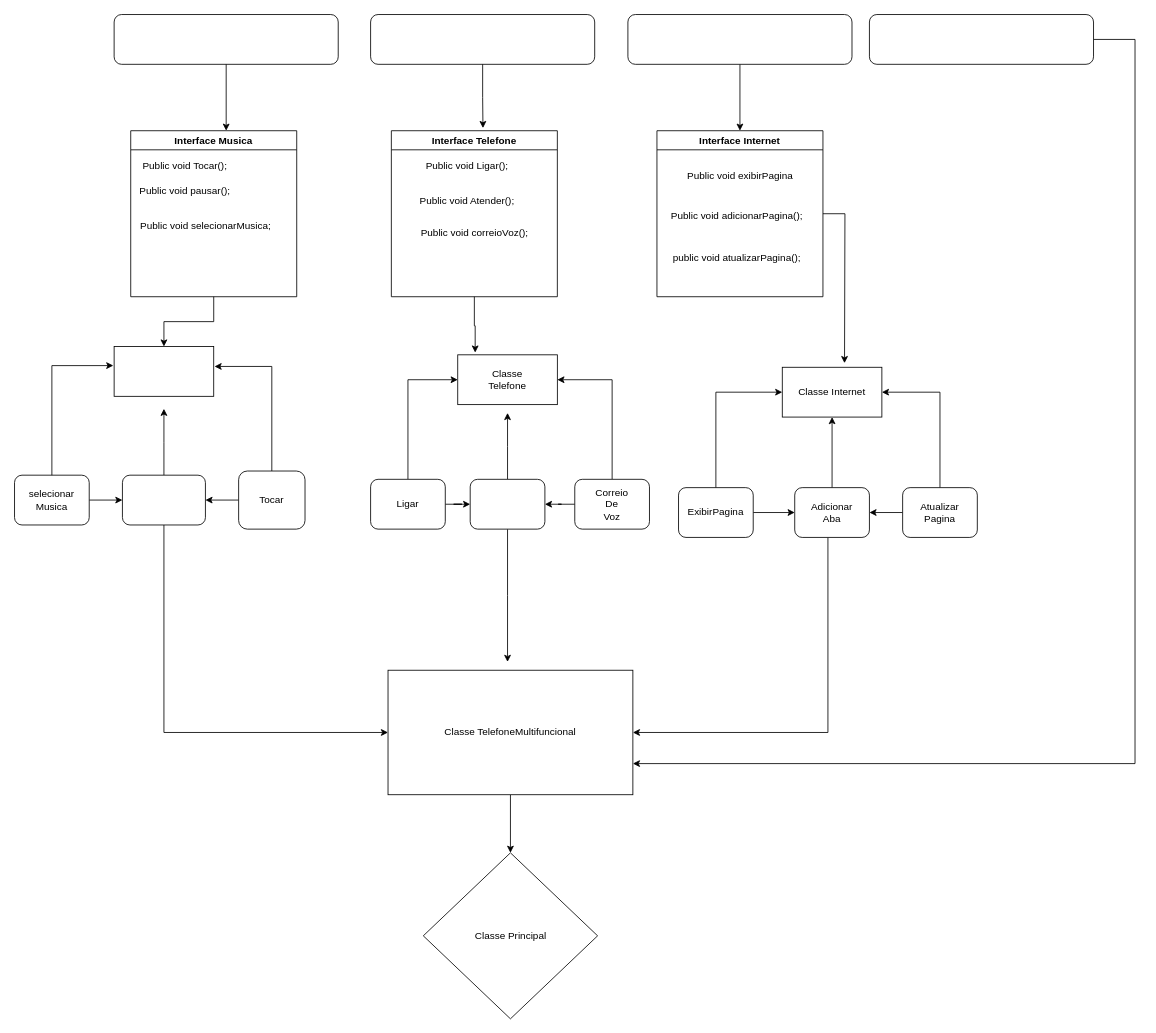
The diagram is 1156 pixels wide and 1033 high, and some of its shapes have lost their labels. Here are the shapes that lost their labels. From the top down, the centre of each, then its label:
(225,39): Pacote musica
(482,39): Pacote telefone
(739,39): Pacote internet
(981,39): PacoteMultifuncional
(163,371): Classe Musica
(163,499): Pausar
(507,503): Atender
